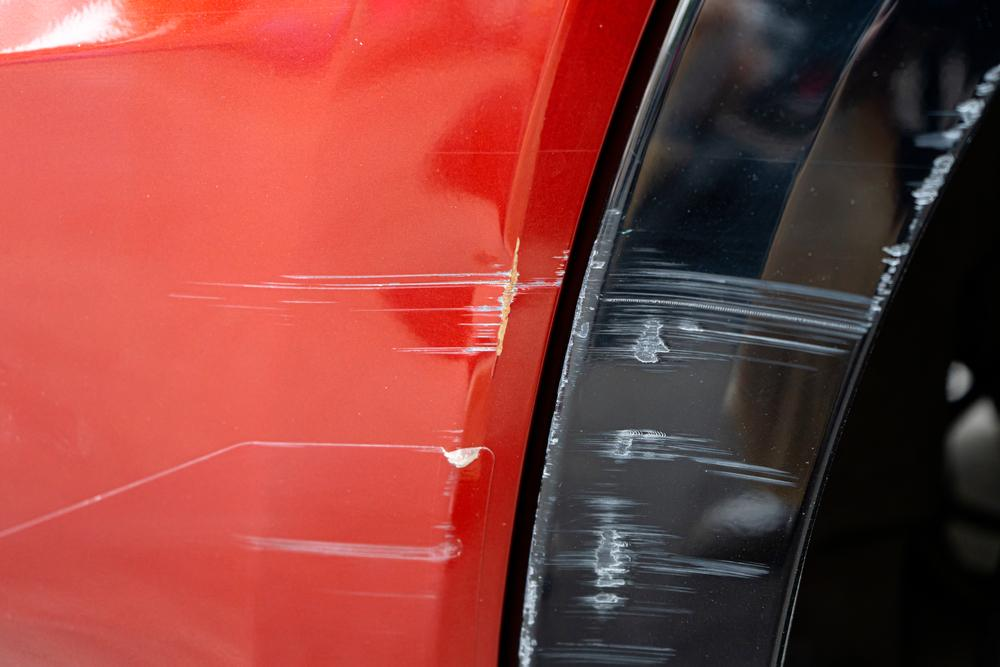scratch: (508, 50, 1000, 667), (0, 230, 568, 582)
